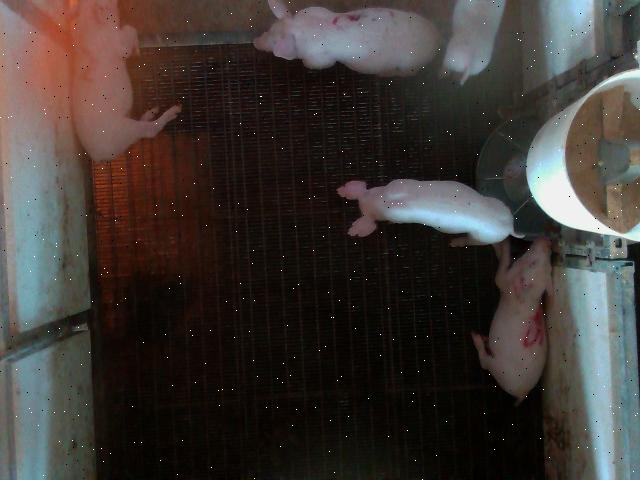pig-2: (71, 1, 181, 161)
pig-3: (254, 1, 441, 76)
pig-5: (471, 236, 552, 406)
